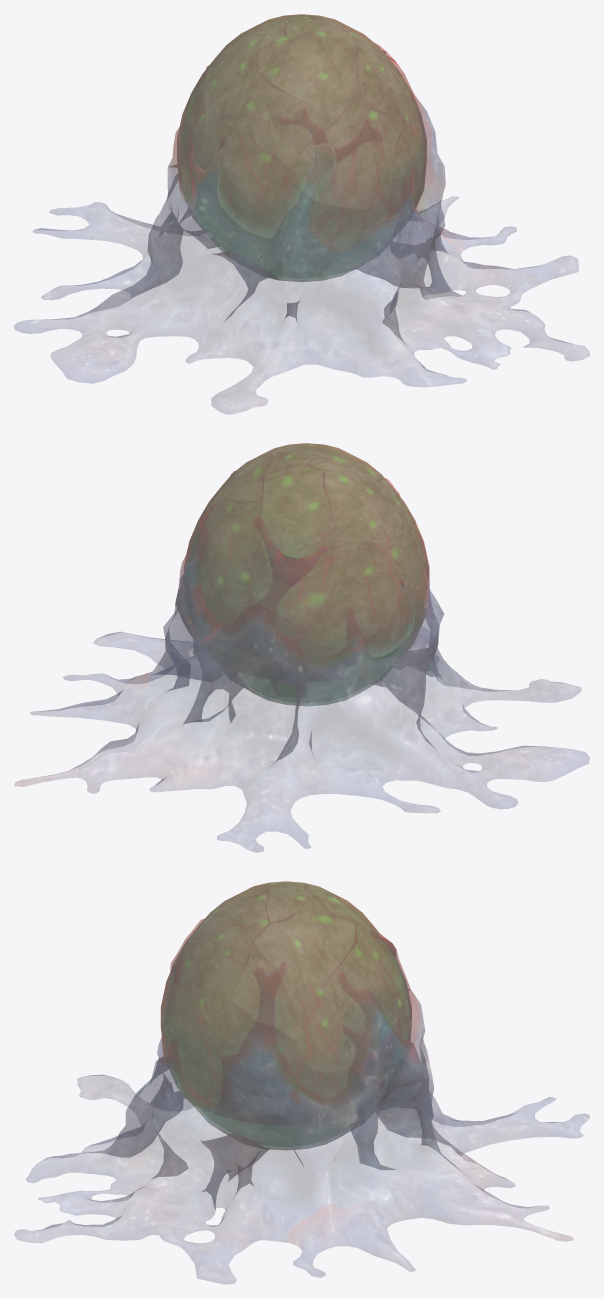
Rendered from tntbarrel-lod0.glb.
The picture shows the model from 3 angles, top to bottom: view 1: azimuth 30°, elevation 25°; view 2: azimuth 150°, elevation 25°; view 3: azimuth 270°, elevation 25°; orthographic projection. The views are drawn at different scales.
Parts seen in each view (by area): view 1: rtm_baby_metroid_egg; view 2: rtm_baby_metroid_egg; view 3: rtm_baby_metroid_egg.
Part boxes in pixels (x1,y1,x2,y2): rtm_baby_metroid_egg: (14,14,589,414); rtm_baby_metroid_egg: (14,443,589,852); rtm_baby_metroid_egg: (14,881,589,1284).
Bounding box in the file's own units: 11.08 × 5.69 × 10.87.
Materials: 5 (5 with a texture image).
